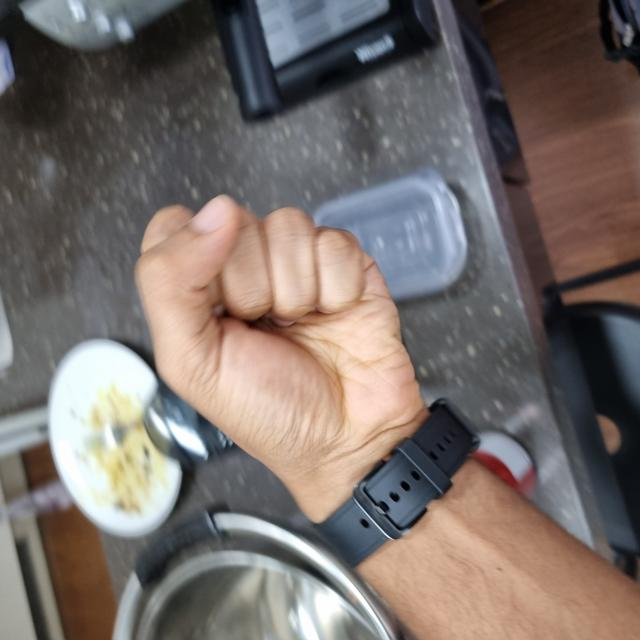Rock: (121, 134, 443, 427)
